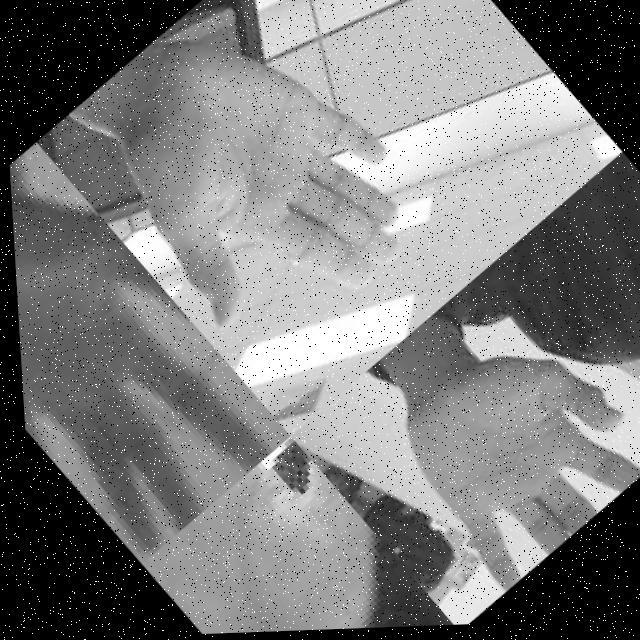no-gloves: (42, 0, 454, 392), (7, 142, 289, 567), (358, 301, 640, 601), (128, 434, 426, 636)
